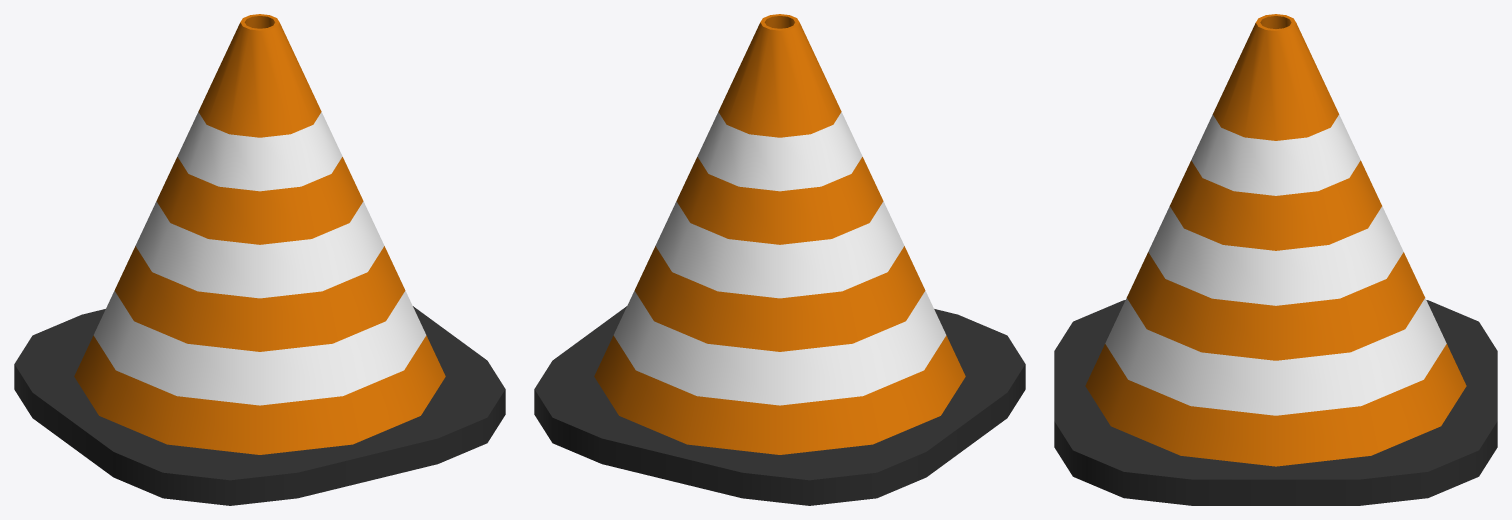
3 renders of one model, left to right at view 1: azimuth 30°, elevation 25°; view 2: azimuth 150°, elevation 25°; view 3: azimuth 270°, elevation 25°, orthographic. The views are drawn at different scales.
Parts seen in each view (by area): view 1: Cone; view 2: Cone; view 3: Cone.
Boxes of the visible parts, <box> form: Cone: <box>14,14,505,505</box>; Cone: <box>534,14,1025,505</box>; Cone: <box>1054,14,1497,505</box>.
Size of the model in its own units: 70.8 by 68.71 by 70.8.
